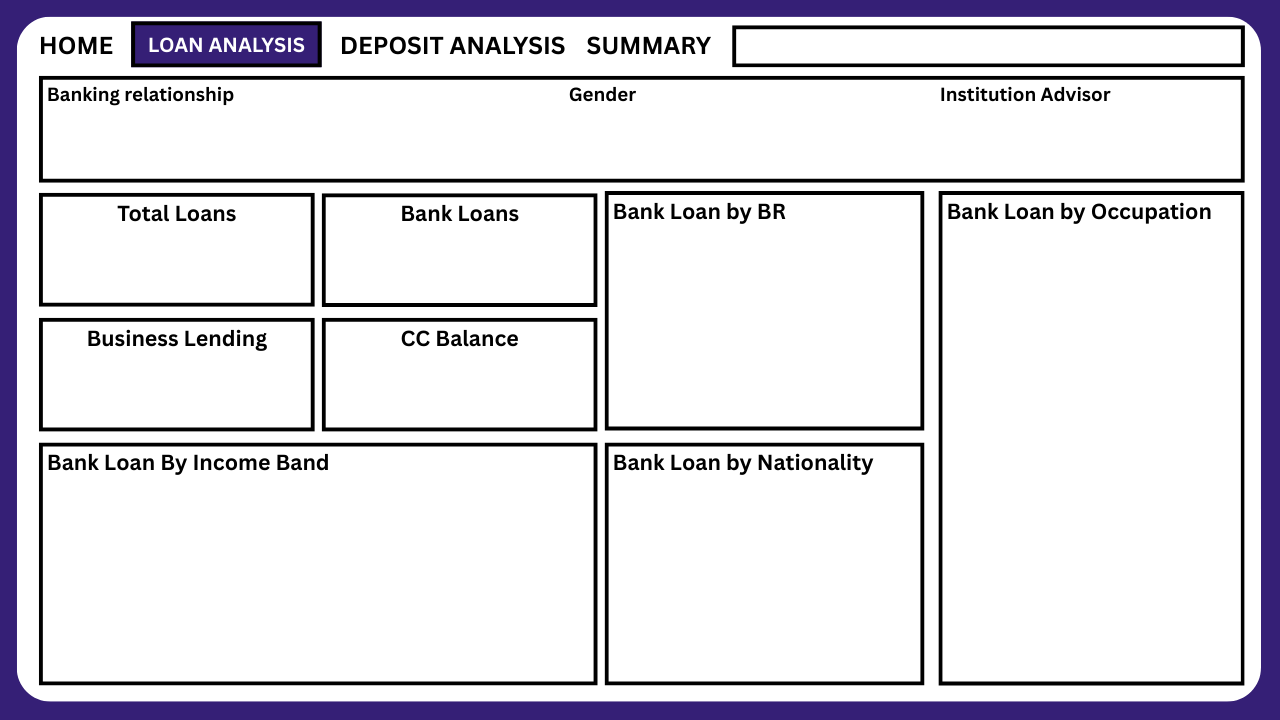

The dashboard page shown, as its layout file describes it:
{"tool":"powerbi","page":{"name":"Loan Analysis","canvas":[1280,720],"ordinal":1},"visuals":[{"type":"slicer","fields":{"Values":["banking_case customer.Year Of Joining"]},"box":[717.5,20,540,42.5],"z":0},{"type":"card","fields":{"Values":["banking_case customer.Total Loan"]},"box":[37.5,195,280,112.5],"z":1000},{"type":"card","fields":{"Values":["Sum(banking_case customer.Bank Loans)"]},"box":[317.5,197.5,280,112.5],"z":2000},{"type":"card","fields":{"Values":["Sum(banking_case customer.Credit Card Balance)"]},"box":[317.5,320,280,112.5],"z":3000},{"type":"card","fields":{"Values":["Sum(banking_case customer.Business Lending)"]},"box":[45,335,262.5,85],"z":4000},{"type":"donutChart","fields":{"Category":["banking_case customer.Income Band"],"Y":["Sum(banking_case customer.Bank Loans)"]},"box":[46,470,538,202],"z":5000},{"type":"actionButton","box":[24,20,98,42],"z":6000},{"type":"actionButton","box":[584,22,130,40],"z":7000},{"type":"actionButton","box":[338,20,230,42],"z":8000},{"type":"pieChart","fields":{"Y":["Sum(banking_case customer.Bank Loans)"],"Category":["banking_case customer.BRId"]},"box":[612,220,322,202],"z":9000},{"type":"columnChart","fields":{"Y":["Sum(banking_case customer.Bank Loans)"],"Category":["banking_case customer.Nationality"]},"box":[612,470,306,202],"z":10000},{"type":"columnChart","fields":{"Category":["banking_case customer.Occupation"],"Y":["Sum(banking_case customer.Bank Loans)"]},"box":[948,220,292,452],"z":11000},{"type":"slicer","fields":{"Values":["banking_case customer.BRId"]},"box":[24,106,434,50],"z":12000},{"type":"slicer","fields":{"Values":["banking_case customer.GenderId"]},"box":[470,108,360,50],"z":12001},{"type":"slicer","fields":{"Values":["banking_case customer.IAId"]},"box":[860,106,360,46],"z":12002}]}

Visuals, with their boxes in screenshot pixels (x1, y1, x2, y2), scaled from the page's 1280x720 canvas onto the 1280x720 screenshot:
slicer - banking_case customer.Year Of Joining: region(718, 20, 1258, 62)
card - banking_case customer.Total Loan: region(38, 195, 318, 308)
card - Sum(banking_case customer.Bank Loans): region(318, 198, 598, 310)
card - Sum(banking_case customer.Credit Card Balance): region(318, 320, 598, 432)
card - Sum(banking_case customer.Business Lending): region(45, 335, 308, 420)
donutChart - banking_case customer.Income Band x Sum(banking_case customer.Bank Loans): region(46, 470, 584, 672)
actionButton: region(24, 20, 122, 62)
actionButton: region(584, 22, 714, 62)
actionButton: region(338, 20, 568, 62)
pieChart - Sum(banking_case customer.Bank Loans) x banking_case customer.BRId: region(612, 220, 934, 422)
columnChart - Sum(banking_case customer.Bank Loans) x banking_case customer.Nationality: region(612, 470, 918, 672)
columnChart - banking_case customer.Occupation x Sum(banking_case customer.Bank Loans): region(948, 220, 1240, 672)
slicer - banking_case customer.BRId: region(24, 106, 458, 156)
slicer - banking_case customer.GenderId: region(470, 108, 830, 158)
slicer - banking_case customer.IAId: region(860, 106, 1220, 152)
